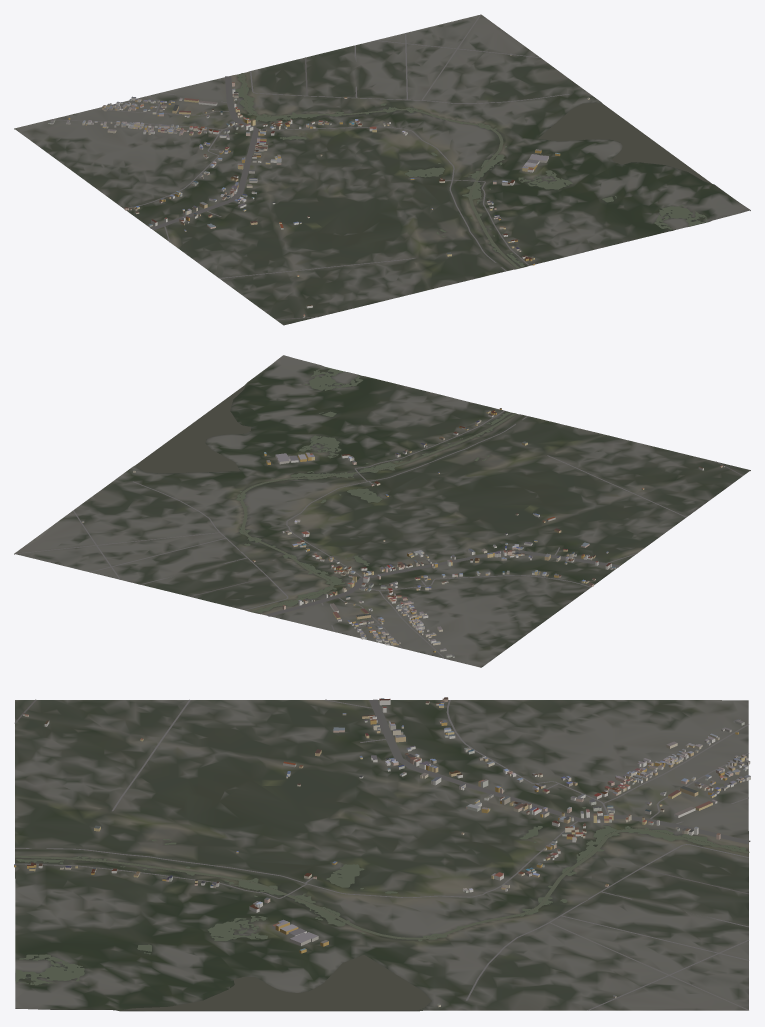
The picture shows the model from 3 angles, top to bottom: view 1: azimuth 30°, elevation 25°; view 2: azimuth 150°, elevation 25°; view 3: azimuth 270°, elevation 25°; orthographic projection. The views are drawn at different scales.
Parts seen in each view (by area): view 1: ground, water, buildings, roads; view 2: ground, water, buildings, roads; view 3: ground, water, buildings, roads.
Part boxes in pixels (left/top/right/bottom): ground: left=14, top=14, right=750, bottom=325; water: left=235, top=73, right=711, bottom=268; buildings: left=48, top=53, right=589, bottom=317; roads: left=50, top=14, right=569, bottom=319; ground: left=14, top=355, right=750, bottom=667; water: left=136, top=367, right=516, bottom=612; buildings: left=82, top=408, right=724, bottom=657; roads: left=14, top=410, right=743, bottom=658; ground: left=15, top=700, right=748, bottom=1011; water: left=15, top=807, right=749, bottom=1010; buildings: left=14, top=697, right=750, bottom=1006; roads: left=14, top=699, right=750, bottom=1010.
Size of the model in its own units: 1406 by 19.64 by 1408.
